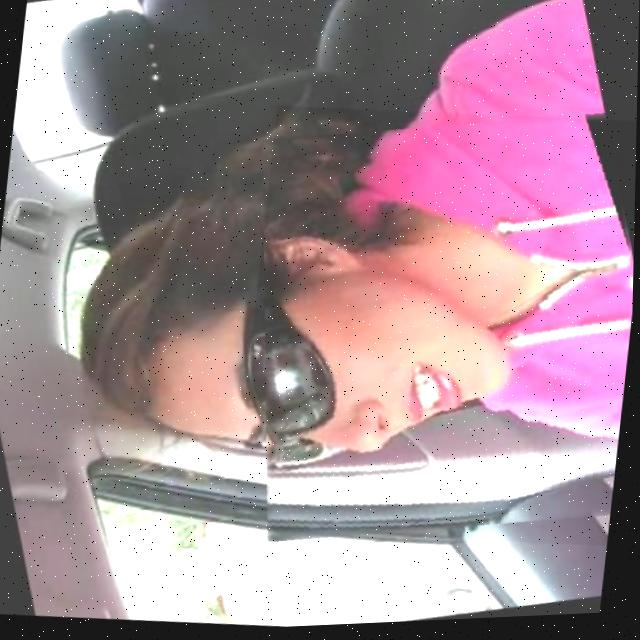no-seatbelt: (232, 95, 638, 564)
